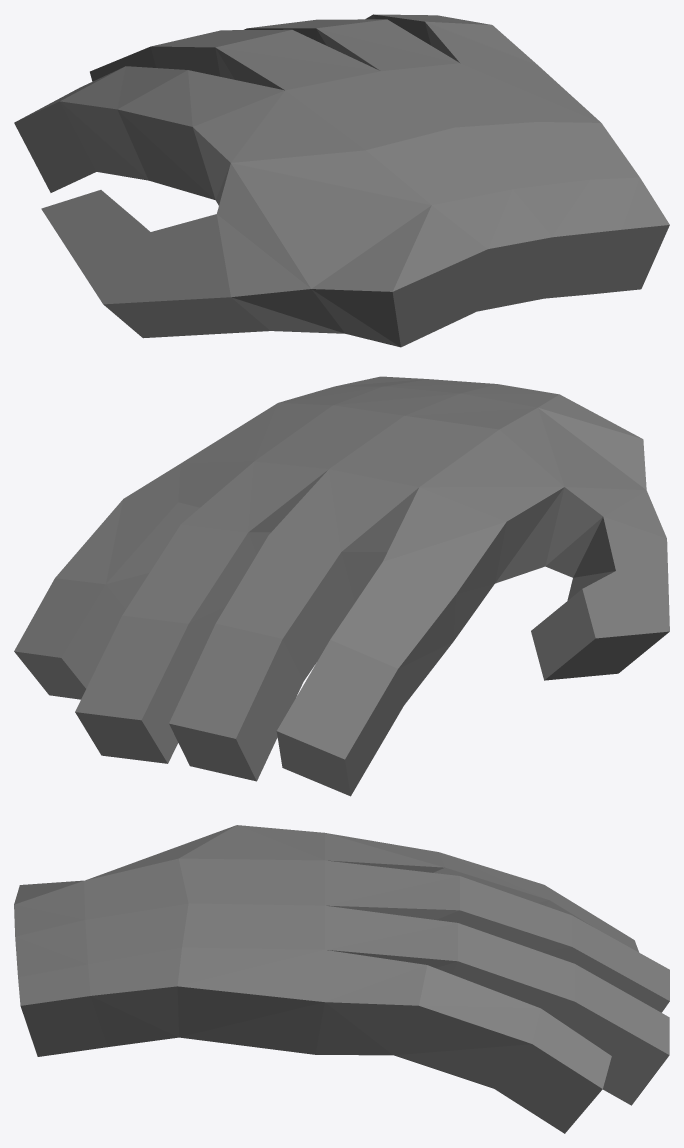
The model's file is Right_Hand.obj.
The picture shows the model from 3 angles, top to bottom: view 1: azimuth 30°, elevation 25°; view 2: azimuth 150°, elevation 25°; view 3: azimuth 270°, elevation 25°; orthographic projection. The views are drawn at different scales.
Parts seen in each view (by area): view 1: right_hand; view 2: right_hand; view 3: right_hand.
Part boxes in pixels (x1,y1,x2,y2): right_hand: (14,14,669,347); right_hand: (14,376,669,796); right_hand: (14,825,669,1133).
Size of the model in its own units: 7.21 by 2.75 by 9.32.
Materials: 1 (1 with a texture image).
